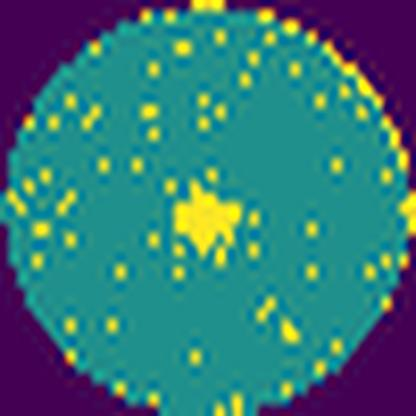Center: (172, 177, 245, 257)
